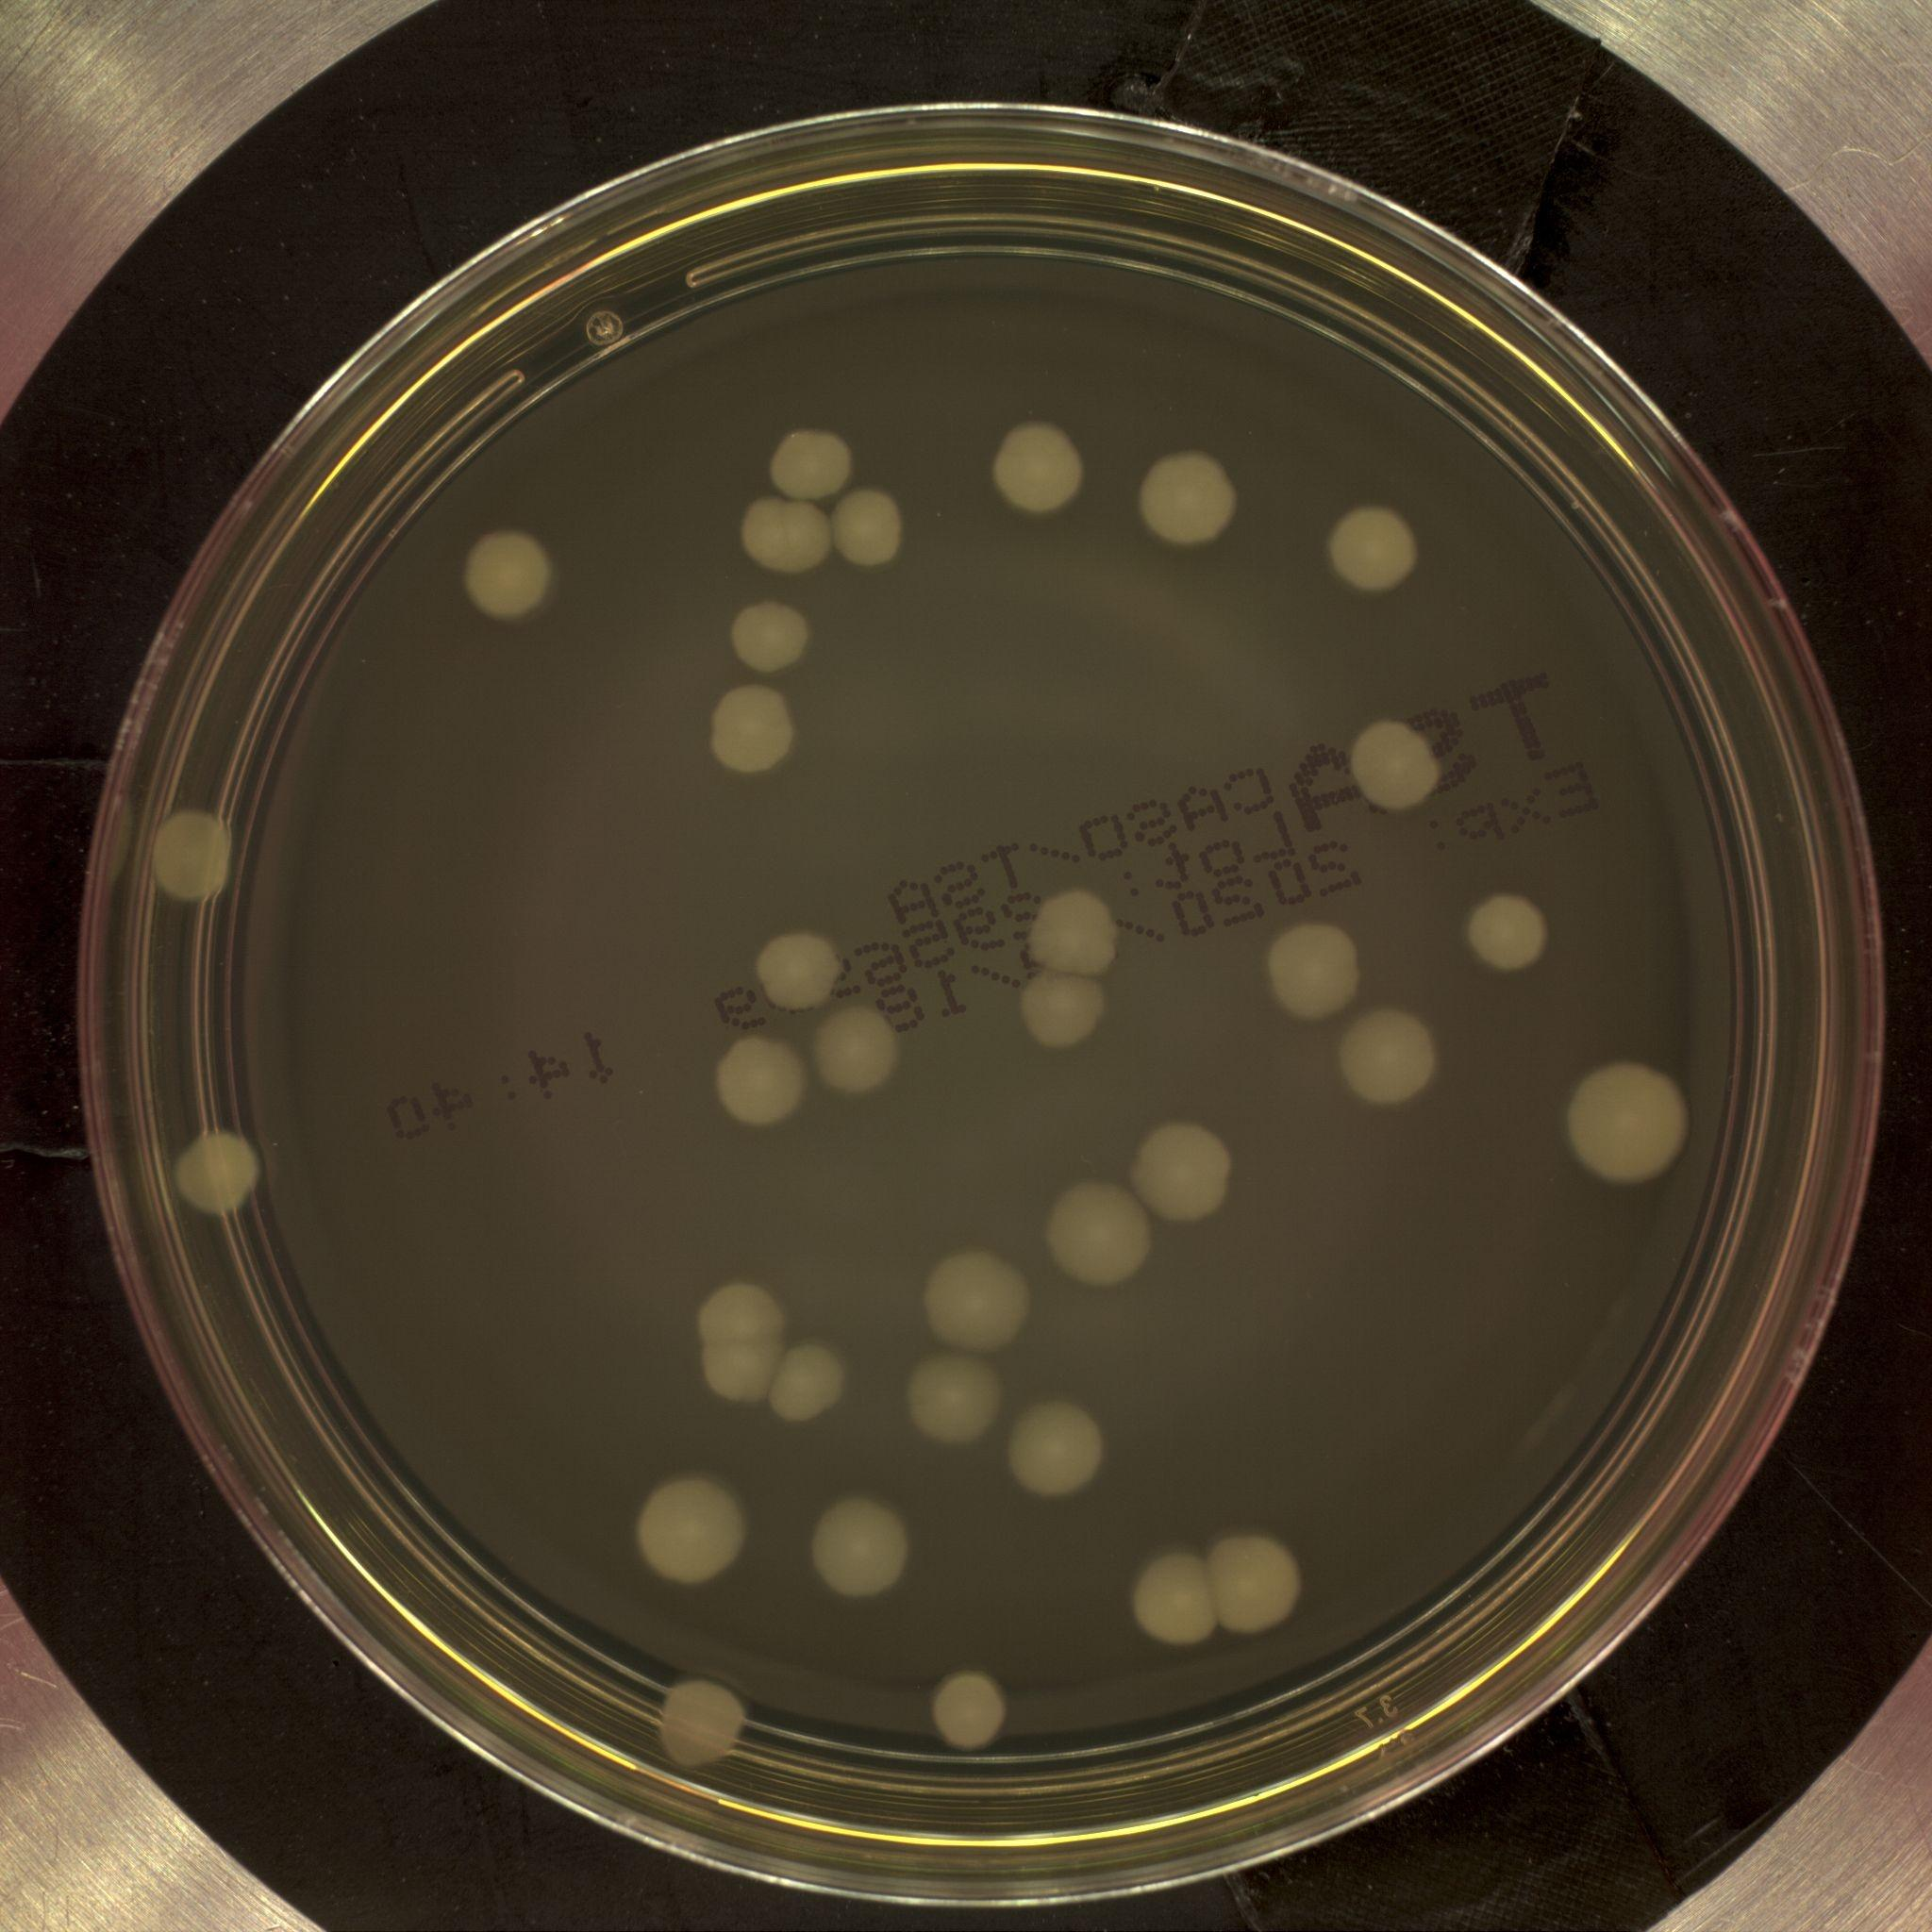e. coli: (1562, 1053, 1684, 1189), (628, 1472, 757, 1589), (916, 1240, 1049, 1353), (1194, 1523, 1318, 1642), (1129, 433, 1242, 552), (812, 1495, 922, 1614), (1044, 1175, 1157, 1288), (1336, 1005, 1454, 1109), (987, 416, 1095, 529), (124, 798, 237, 906), (1449, 878, 1562, 985), (1341, 708, 1444, 826), (1030, 869, 1134, 982), (694, 679, 803, 784), (1132, 1118, 1237, 1226), (464, 529, 568, 637), (690, 1283, 789, 1396), (1270, 911, 1378, 1014), (648, 1670, 757, 1769), (908, 1348, 1010, 1453), (1134, 1532, 1223, 1651), (1010, 1401, 1115, 1500), (161, 1123, 271, 1217), (747, 915, 846, 1014), (1322, 504, 1435, 589), (715, 1033, 807, 1138), (925, 1665, 1024, 1759), (732, 490, 846, 571), (770, 416, 865, 501), (817, 1010, 908, 1099), (832, 487, 911, 580), (732, 594, 826, 674), (1019, 962, 1115, 1039), (778, 1348, 851, 1424)
